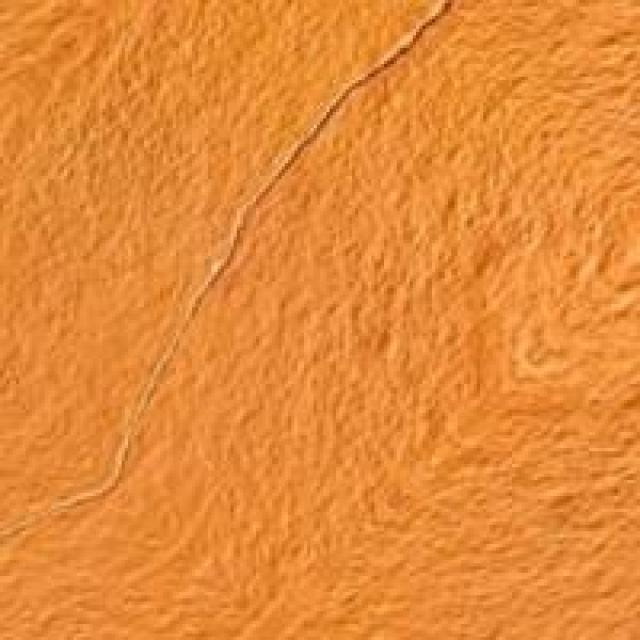crack: (211, 0, 483, 368)
